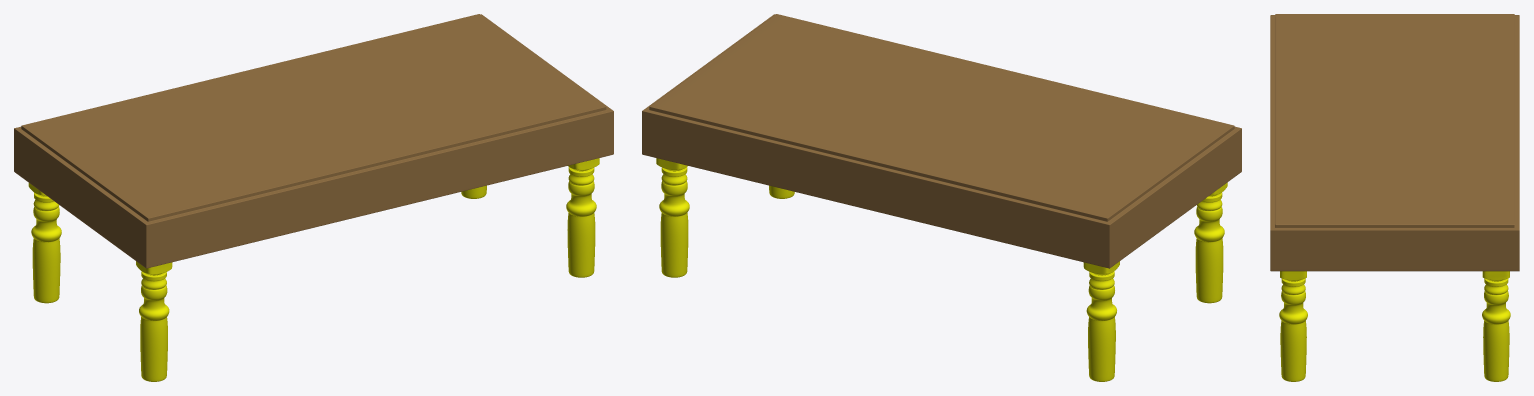
Rendered from table_baked.glb.
3 views of the same model, side by side, from view 1: azimuth 30°, elevation 25°; view 2: azimuth 150°, elevation 25°; view 3: azimuth 270°, elevation 25° (orthographic). The views are drawn at different scales.
Visible parts, largest first — view 1: table_top, Table_Leg4; view 2: table_top, Table_Leg4; view 3: table_top, Table_Leg4.
Boxes of the visible parts, x1,y1,x2,y2 form: table_top: [14, 14, 613, 268]; Table_Leg4: [28, 158, 599, 381]; table_top: [642, 14, 1241, 268]; Table_Leg4: [656, 158, 1227, 381]; table_top: [1270, 14, 1519, 271]; Table_Leg4: [1279, 271, 1510, 381].
Size of the model in its own units: 0.0788 by 0.0273 by 0.0386.
